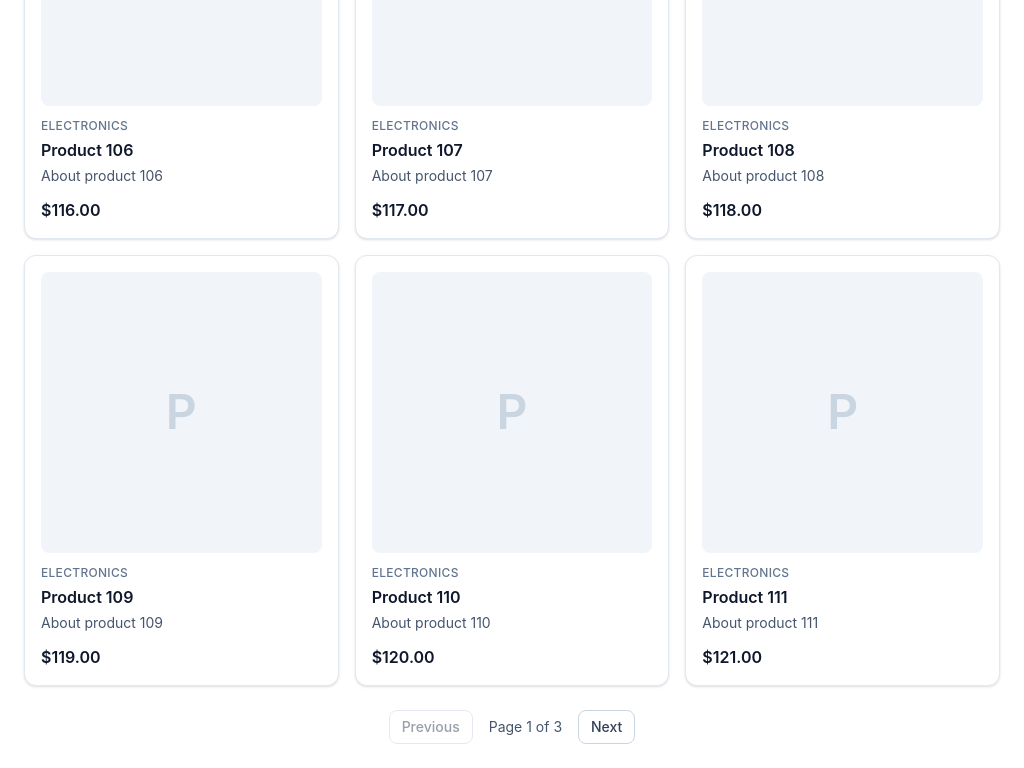
it: ProductListPage › moves between pages and keeps the filters
The image size is (1024, 768).
(page scrolled)
Expected: the text "Page 1 of 3" is shown, [489,717,562,737]
Expected: the button "Previous" is disabled, [389,710,473,744]
Click the button "Next". click: [607, 727]
box: [578,710,635,744]
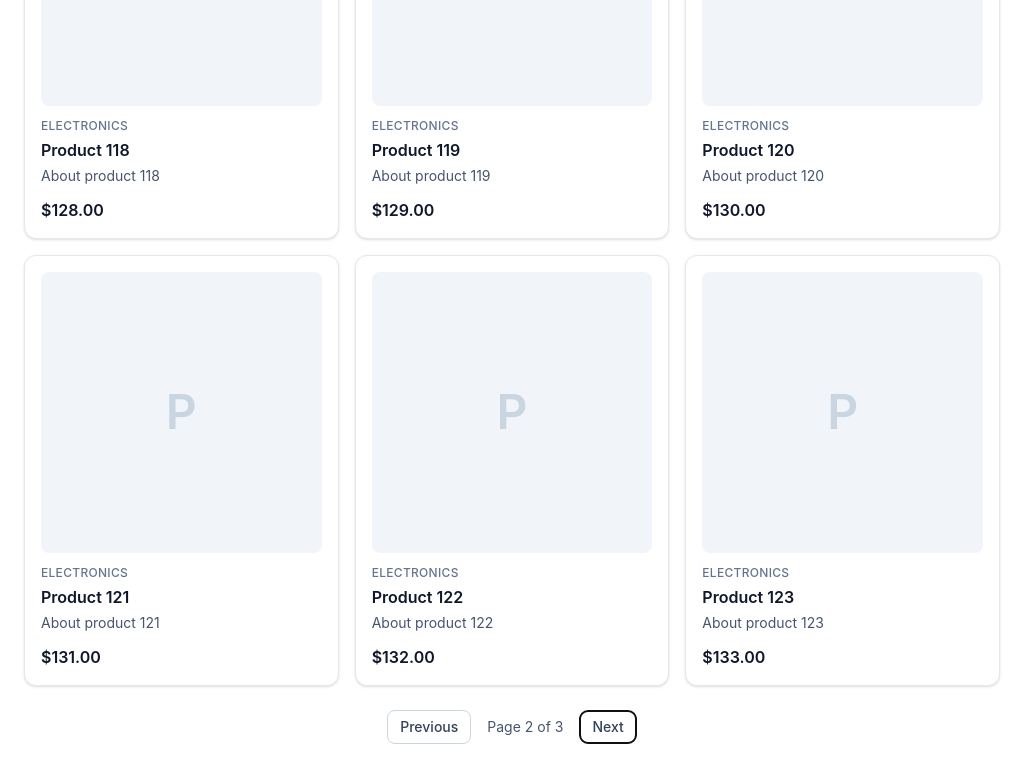
Now the text "Page 2 of 3" is shown, box [487,717,564,737]
Click the button "Next". click: [608, 727]
box: [580,710,637,744]
(page scrolled)
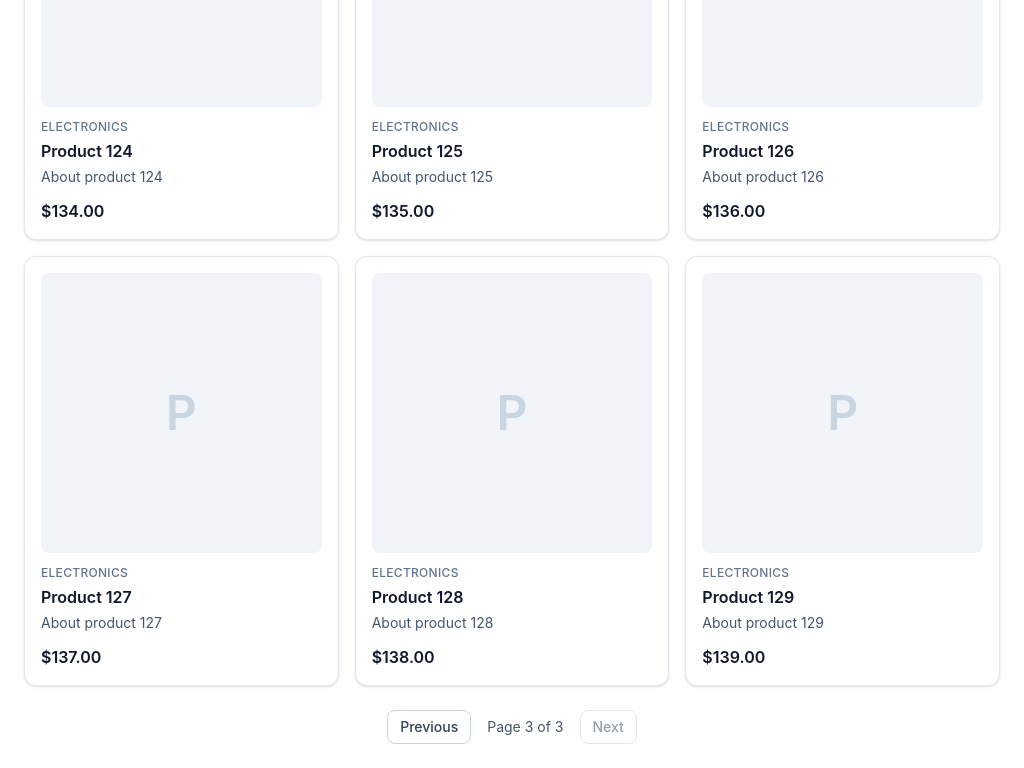
Now the text "Page 3 of 3" is shown, box [487,717,564,737]
Now the button "Next" is disabled, box [580,710,637,744]
Click the button "Previous". click: [429, 727]
box: [387,710,471,744]
(page scrolled)
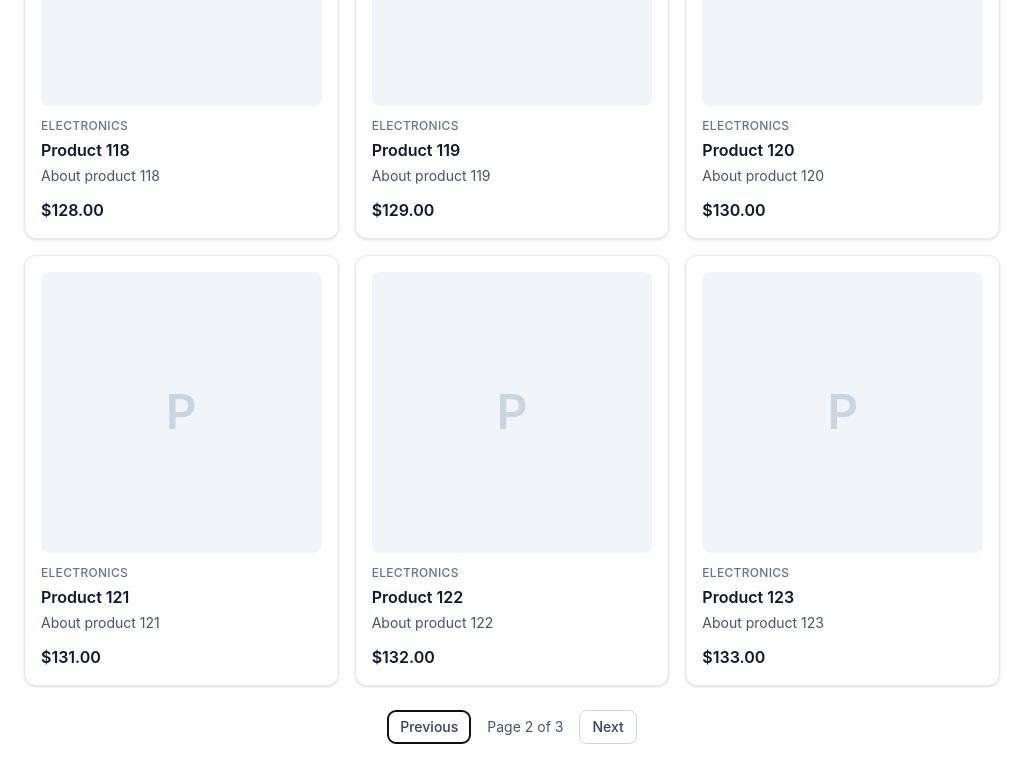
Now the text "Page 2 of 3" is shown, box [487,717,564,737]
